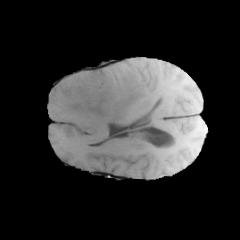glioma: (51, 66, 149, 143)
